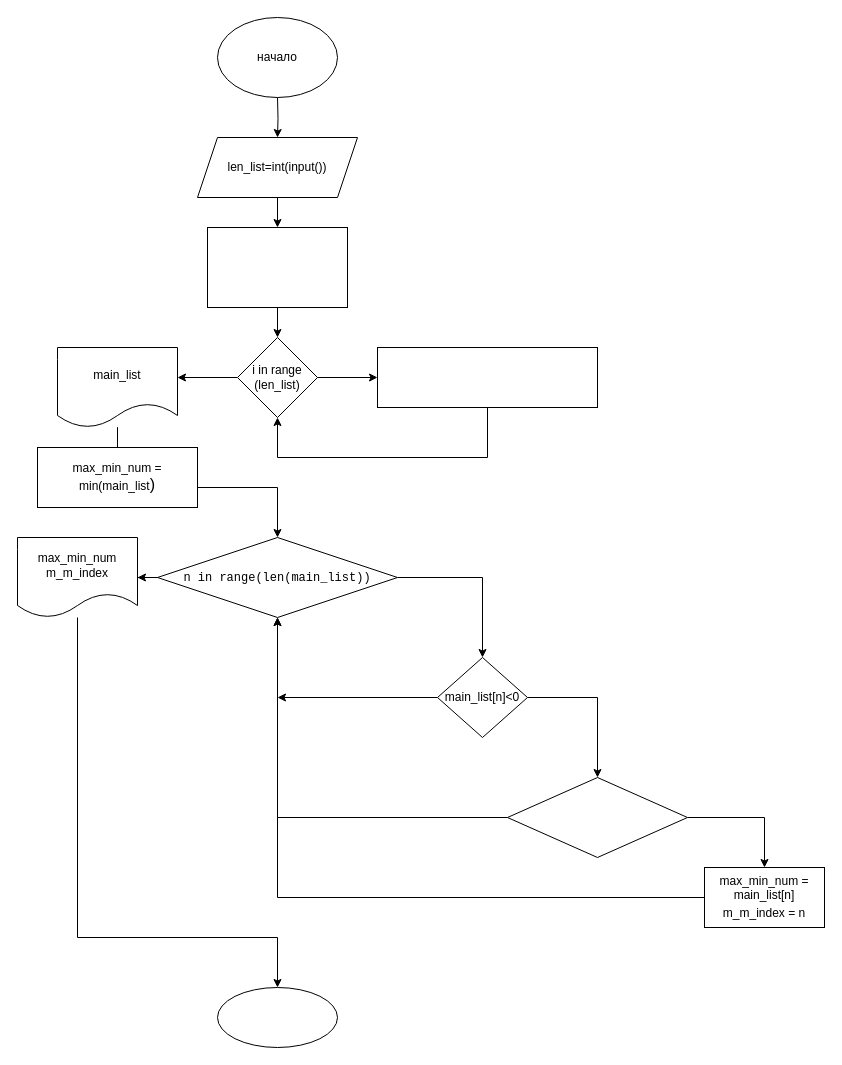
Some shapes in this 842 by 1065 pixel diagram are drawn without their labels. Each missing label, with the centre of its shape:
"if main_list[n] > max_min_num" goes at (x=597, y=817).
"main_list = []" goes at (x=277, y=267).
"main_list.append(int(random()*100)-50)" goes at (x=487, y=377).
"конец" goes at (x=277, y=1017).
